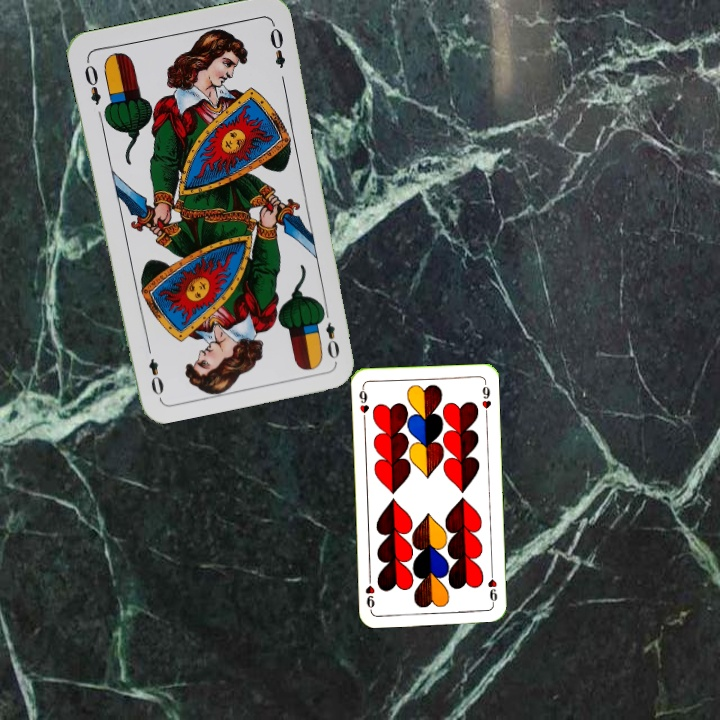EO: (316, 304, 342, 362), (80, 61, 104, 108)
H9: (355, 383, 371, 423), (484, 567, 500, 607)
